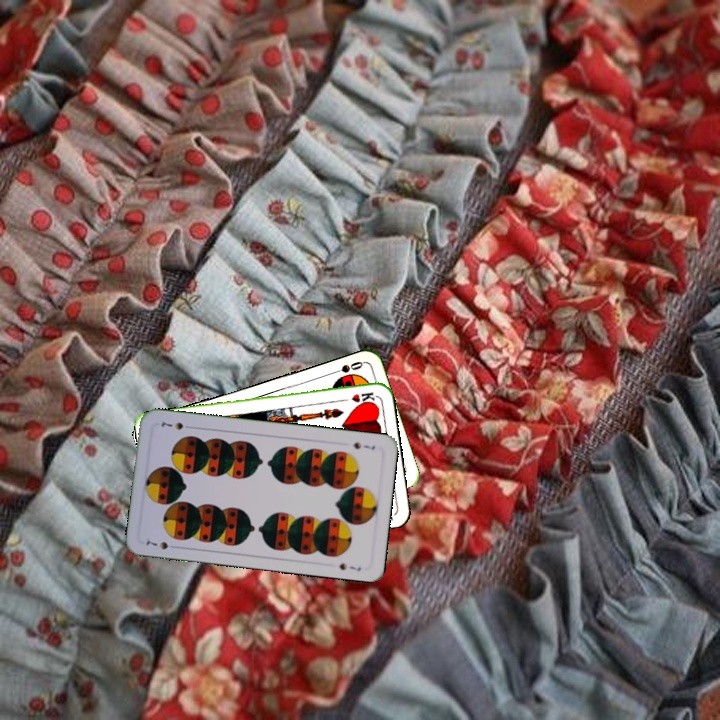HK: (336, 388, 377, 405)
S7: (142, 536, 180, 552), (349, 438, 378, 452)
SO: (326, 357, 366, 377)
